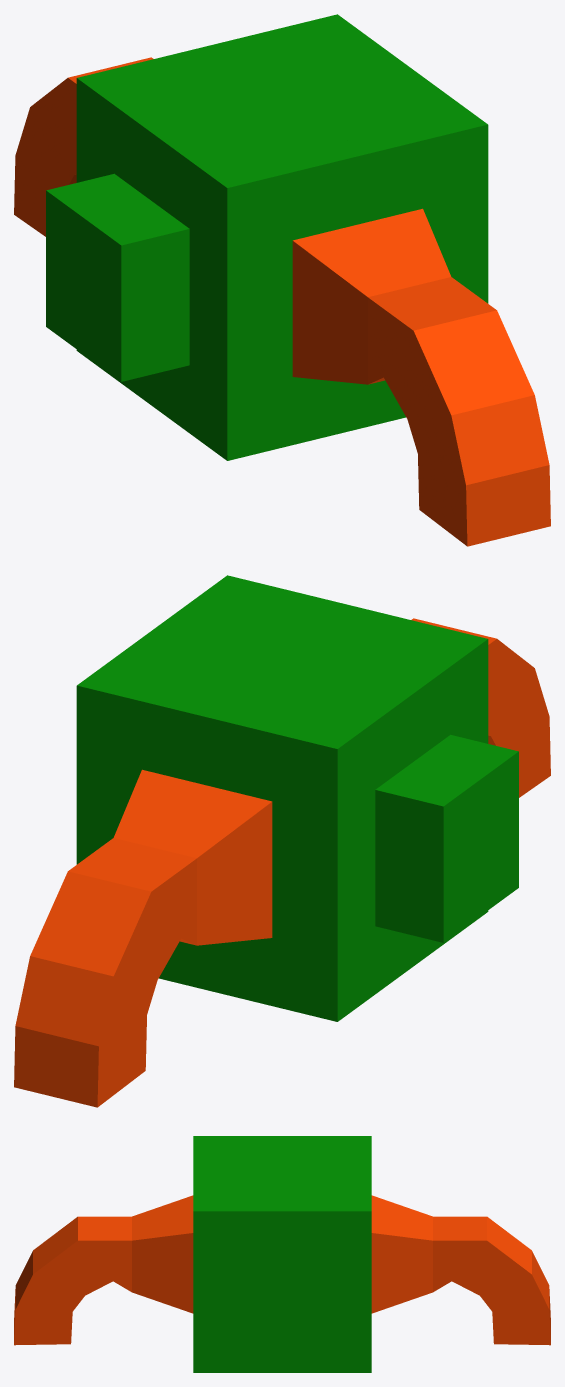
File: BossTestBody.fbx
The picture shows the model from 3 angles, top to bottom: view 1: azimuth 30°, elevation 25°; view 2: azimuth 150°, elevation 25°; view 3: azimuth 270°, elevation 25°; orthographic projection. The views are drawn at different scales.
Parts seen in each view (by area): view 1: Body, Leg; view 2: Body, Leg; view 3: Body, Leg.
Boxes of the visible parts, x1,y1,x2,y2 form: Body: (46,14,488,460); Leg: (14,57,550,546); Body: (76,575,518,1021); Leg: (14,618,550,1107); Body: (193,1136,371,1372); Leg: (14,1195,550,1345).
Size of the model in its own units: 256 by 203 by 612.
